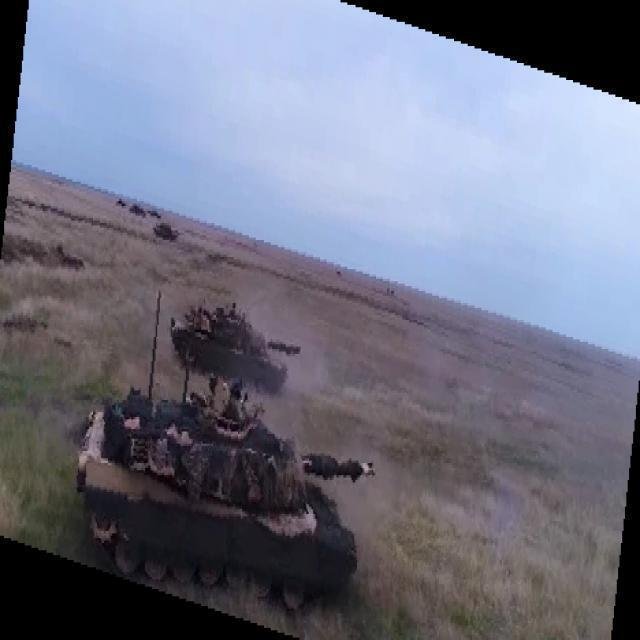MIL_MBT: (75, 374, 376, 610), (171, 297, 301, 399), (152, 218, 180, 244)
